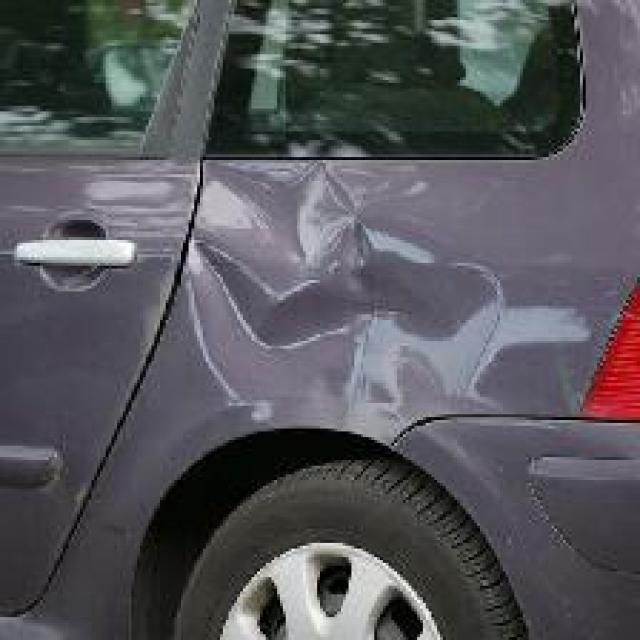damaged: (175, 163, 520, 443)
